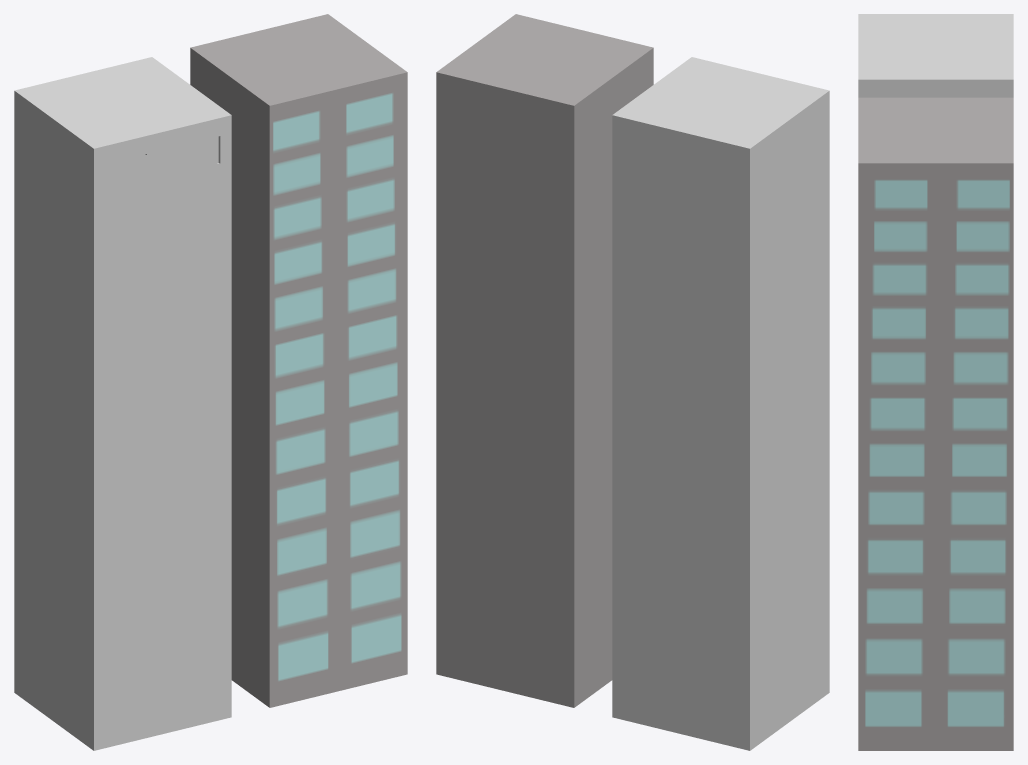
The picture shows the model from 3 angles, left to right: view 1: azimuth 30°, elevation 25°; view 2: azimuth 150°, elevation 25°; view 3: azimuth 270°, elevation 25°; orthographic projection. The views are drawn at different scales.
Visible parts, largest first — view 1: B1, B1.Low; view 2: B1, B1.Low; view 3: B1.Low, B1.
Part boxes in pixels (bbox=[...]): B1: bbox=[14, 57, 231, 750]; B1.Low: bbox=[190, 14, 407, 707]; B1: bbox=[612, 57, 829, 750]; B1.Low: bbox=[436, 14, 653, 707]; B1.Low: bbox=[858, 97, 1013, 750]; B1: bbox=[858, 14, 1013, 97].
Size of the model in its own units: 455 by 200 by 835.
Materials: 3 (1 with a texture image).
